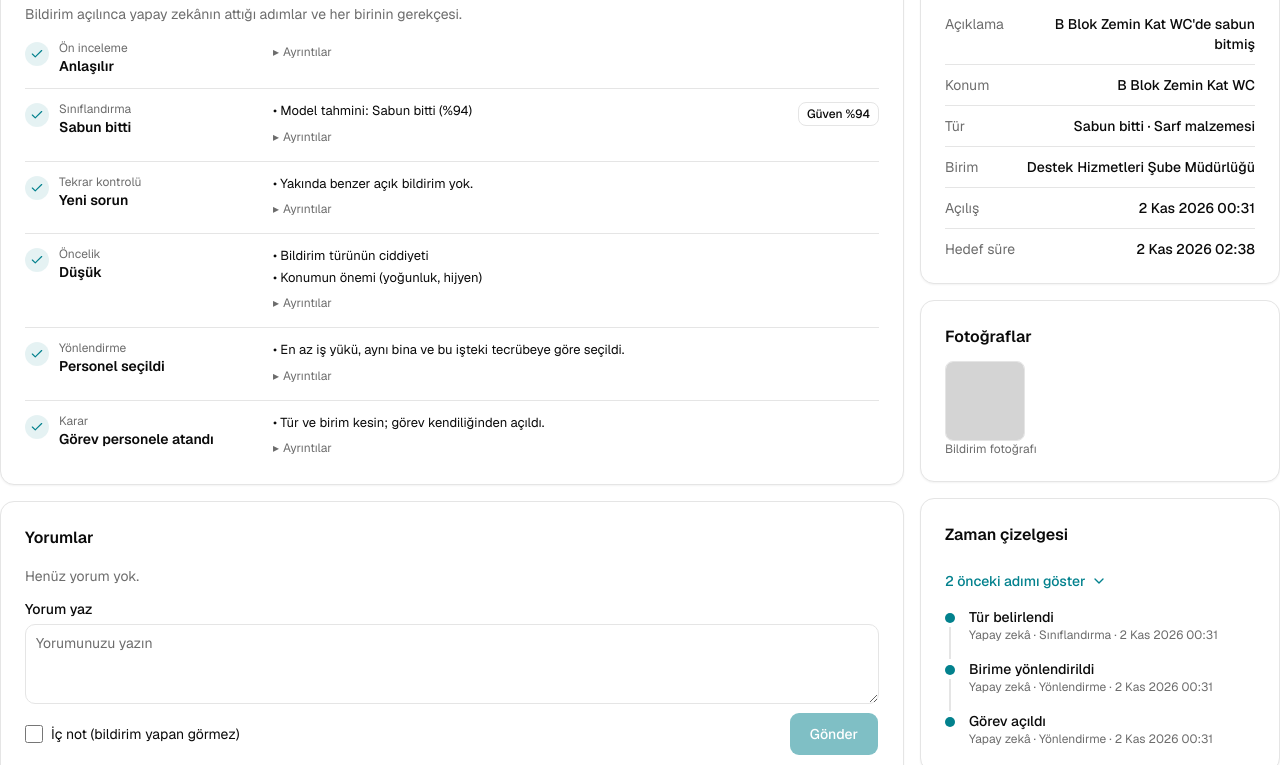
Test: ManagerCaseDetail › shows the latest three steps first and opens the earlier ones on request
(page scrolled)
expect the list item "Görev açıldı Yapay zekâ · Yönlendirme · 2 Kas 2026 00:31" is shown: met, box x1=945 y1=711 x2=1255 y2=747
Click the button "2 önceki adımı göster": [1026, 581] box x1=945 y1=559 x2=1108 y2=603
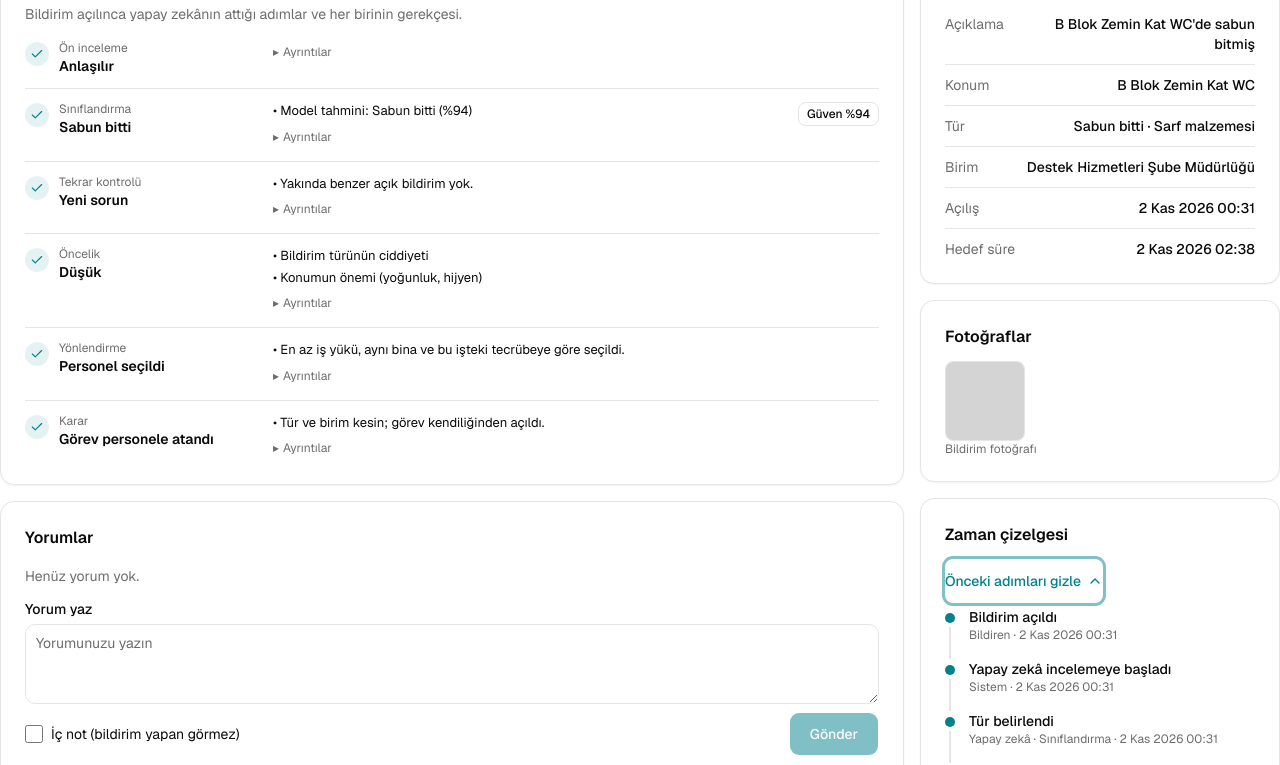
expect the list item "Bildirim açıldı Bildiren · 2 Kas 2026 00:31" is shown: met, box x1=945 y1=608 x2=1117 y2=659
expect the button "Önceki adımları gizle" is expanded: met, box x1=945 y1=559 x2=1103 y2=603
